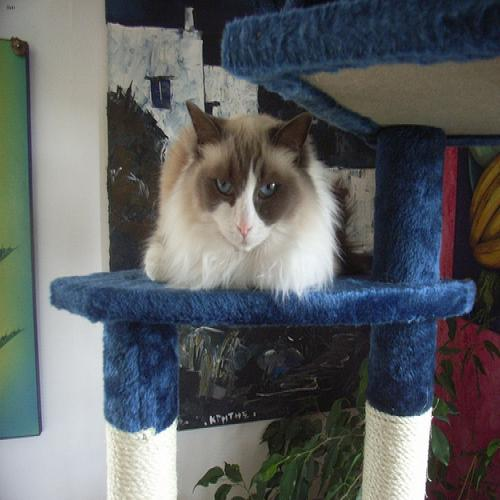ragdoll: (180, 87, 321, 265)
